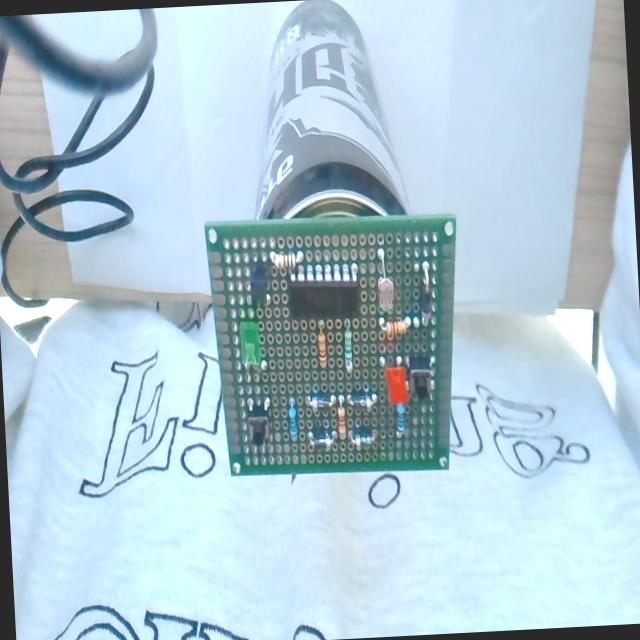IC: (286, 260, 360, 324)
cds: (375, 250, 395, 316)
diode: (418, 264, 434, 326), (308, 426, 334, 447), (351, 426, 375, 448), (349, 389, 376, 408), (308, 392, 332, 409)
led: (236, 322, 268, 382), (385, 364, 410, 406)
resistor: (271, 249, 302, 275), (382, 317, 409, 341), (317, 325, 328, 367), (343, 326, 353, 372), (288, 400, 299, 439), (336, 404, 346, 438), (396, 404, 406, 436)
switch: (408, 356, 434, 404), (246, 403, 272, 450)
transistor: (248, 266, 270, 312)
